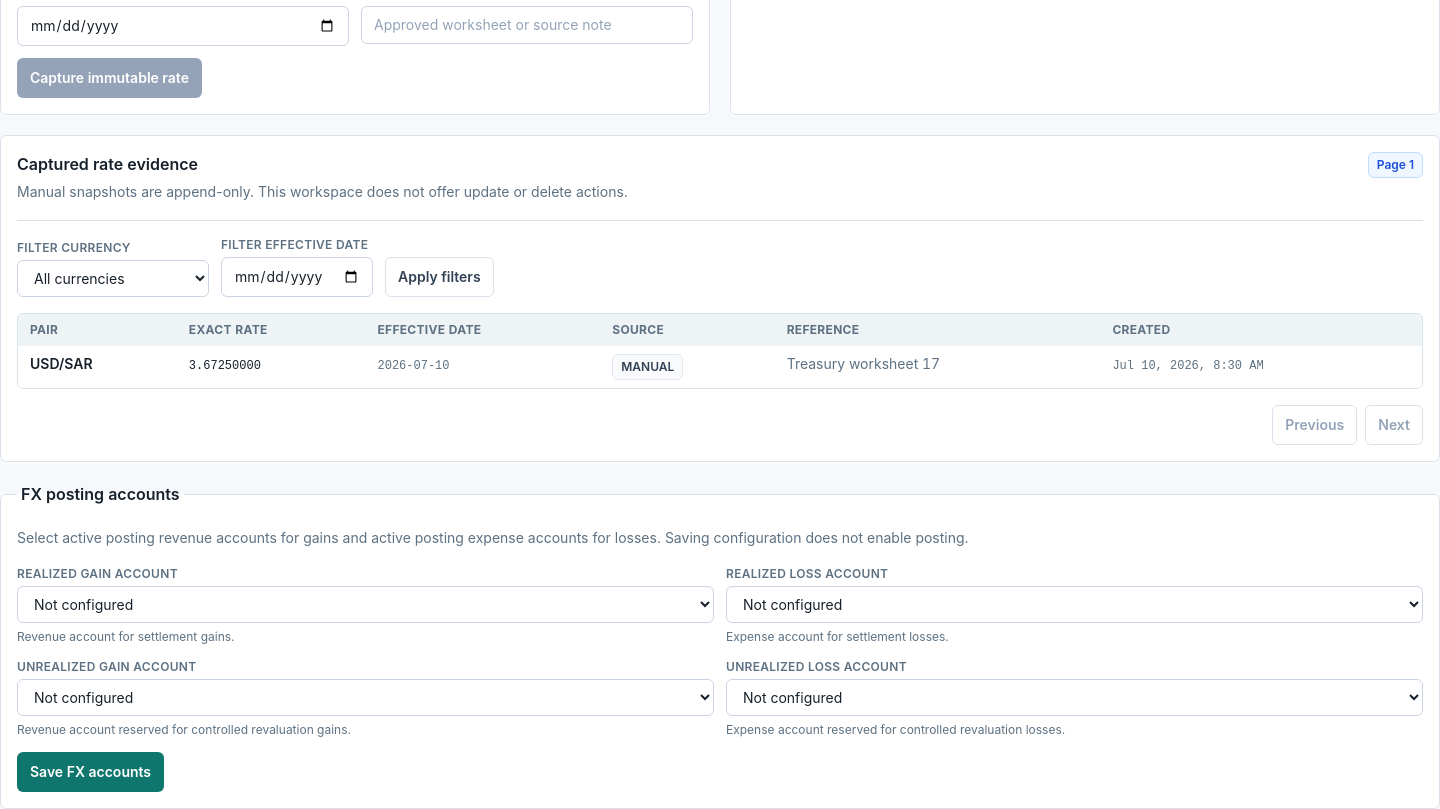
Test case: CurrenciesAndFxSettingsPage › saves four type-safe posting account selections via PUT
(page scrolled)
expect the text "USD/SAR" is shown: met, box x1=18 y1=346 x2=177 y2=388
Select "4100 - Realized FX gain" in the dropdown labelled "Realized gain account" at (366, 604), box x1=17 y1=586 x2=714 y2=623
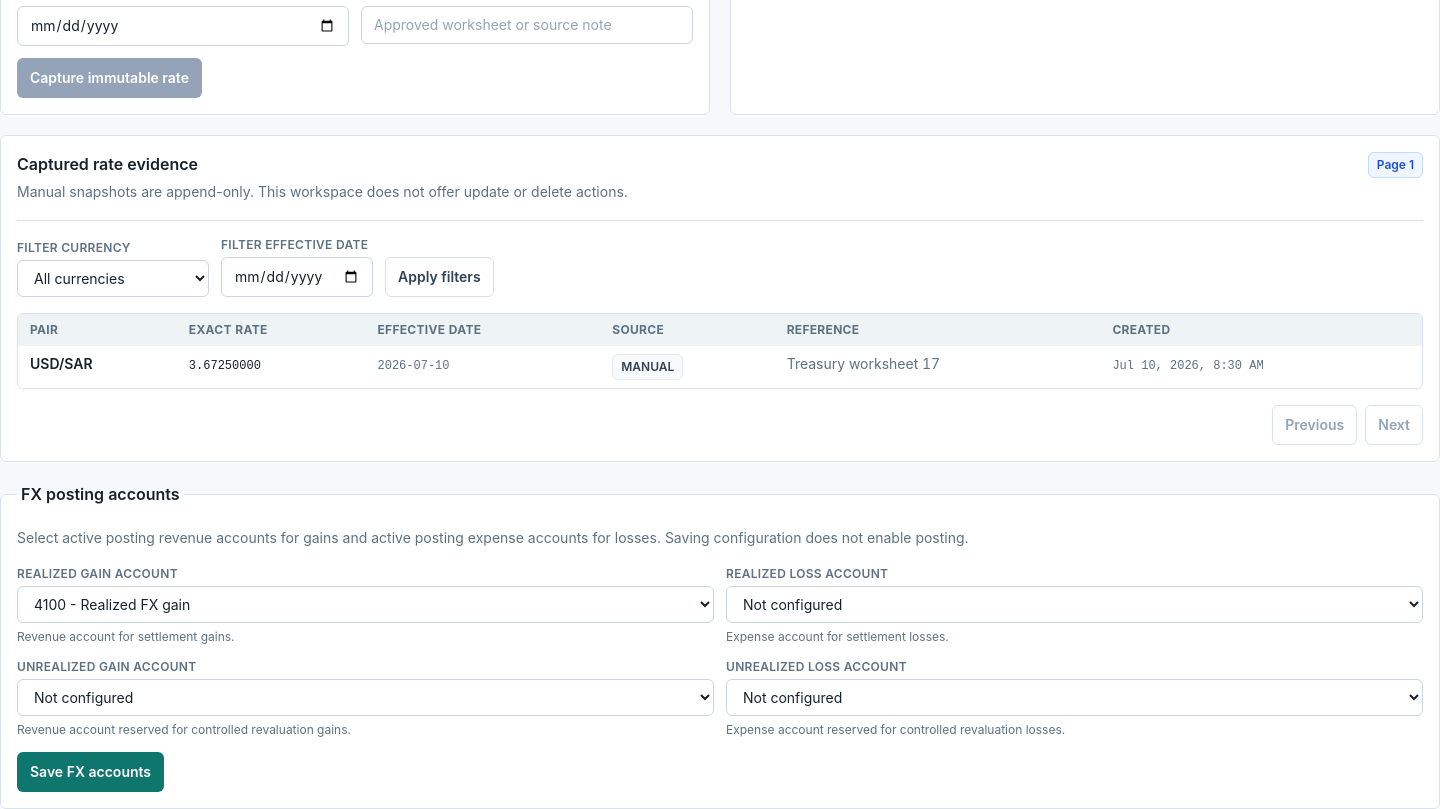
Select "5100 - Realized FX loss" in the dropdown labelled "Realized loss account" at (1074, 604), box x1=726 y1=586 x2=1423 y2=623
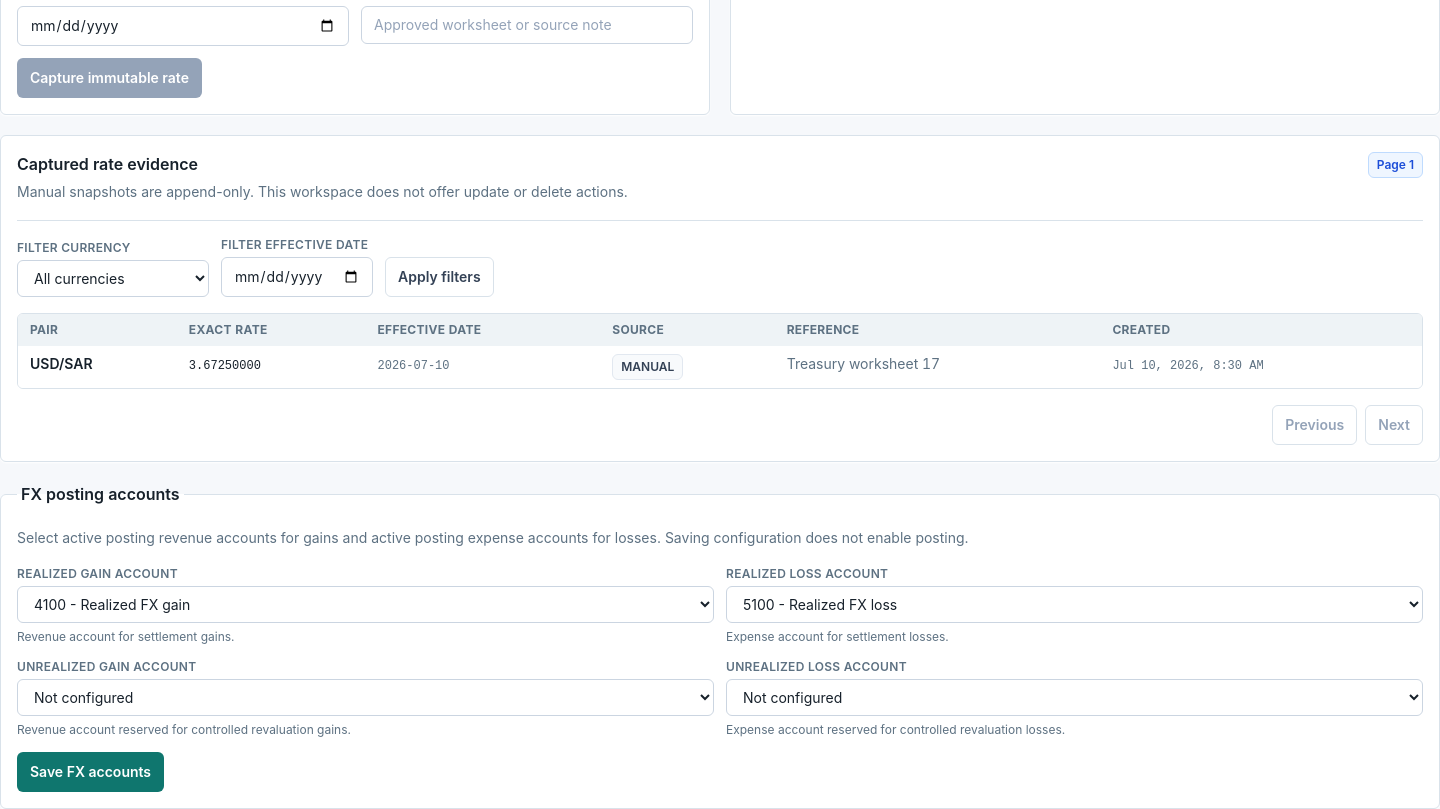
Select "4110 - Unrealized FX gain" in the dropdown labelled "Unrealized gain account" at (366, 698), box x1=17 y1=679 x2=714 y2=716
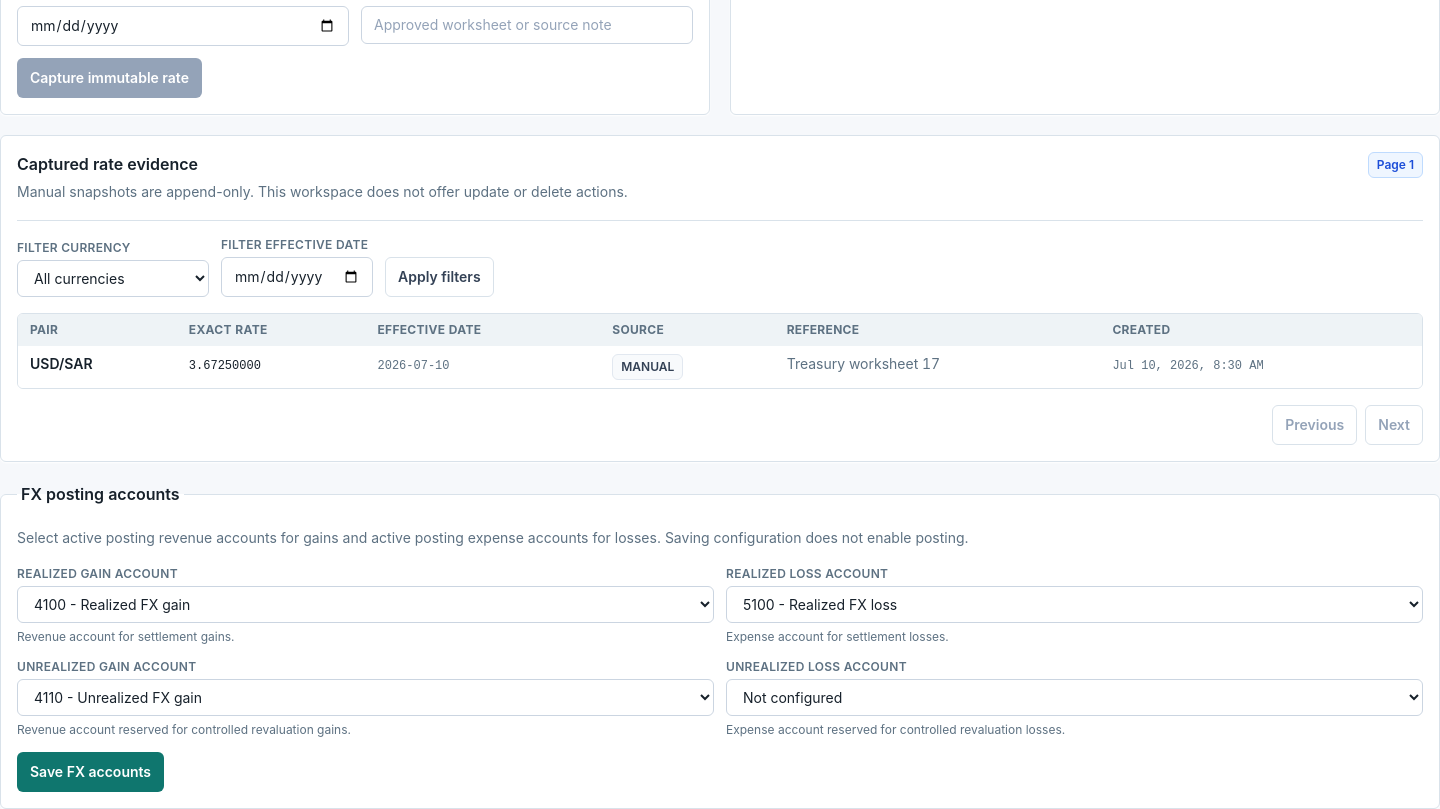
Select "5110 - Unrealized FX loss" in the dropdown labelled "Unrealized loss account" at (1074, 698), box x1=726 y1=679 x2=1423 y2=716
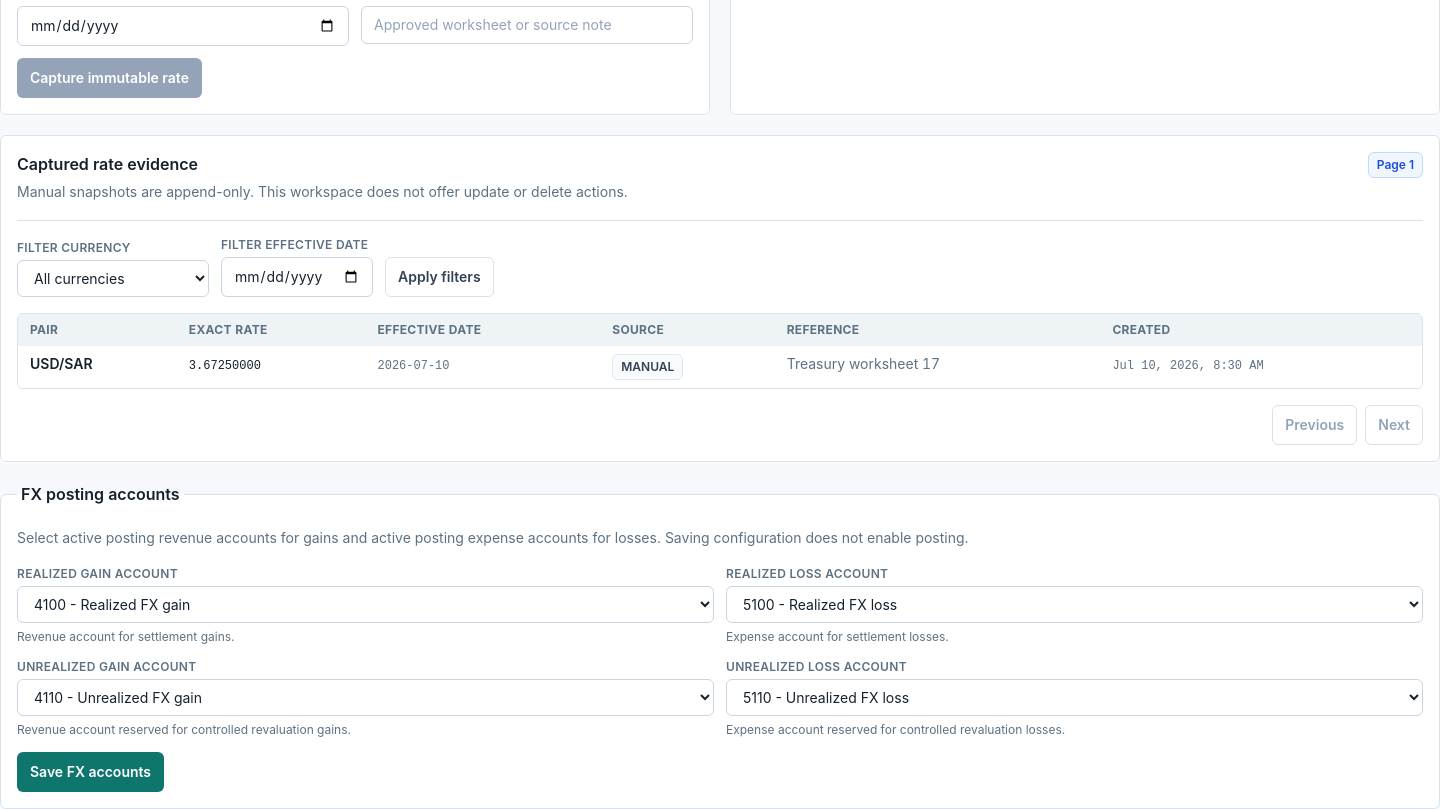
Click the button "Save FX accounts" at (90, 772), box x1=17 y1=752 x2=164 y2=792
(page scrolled)
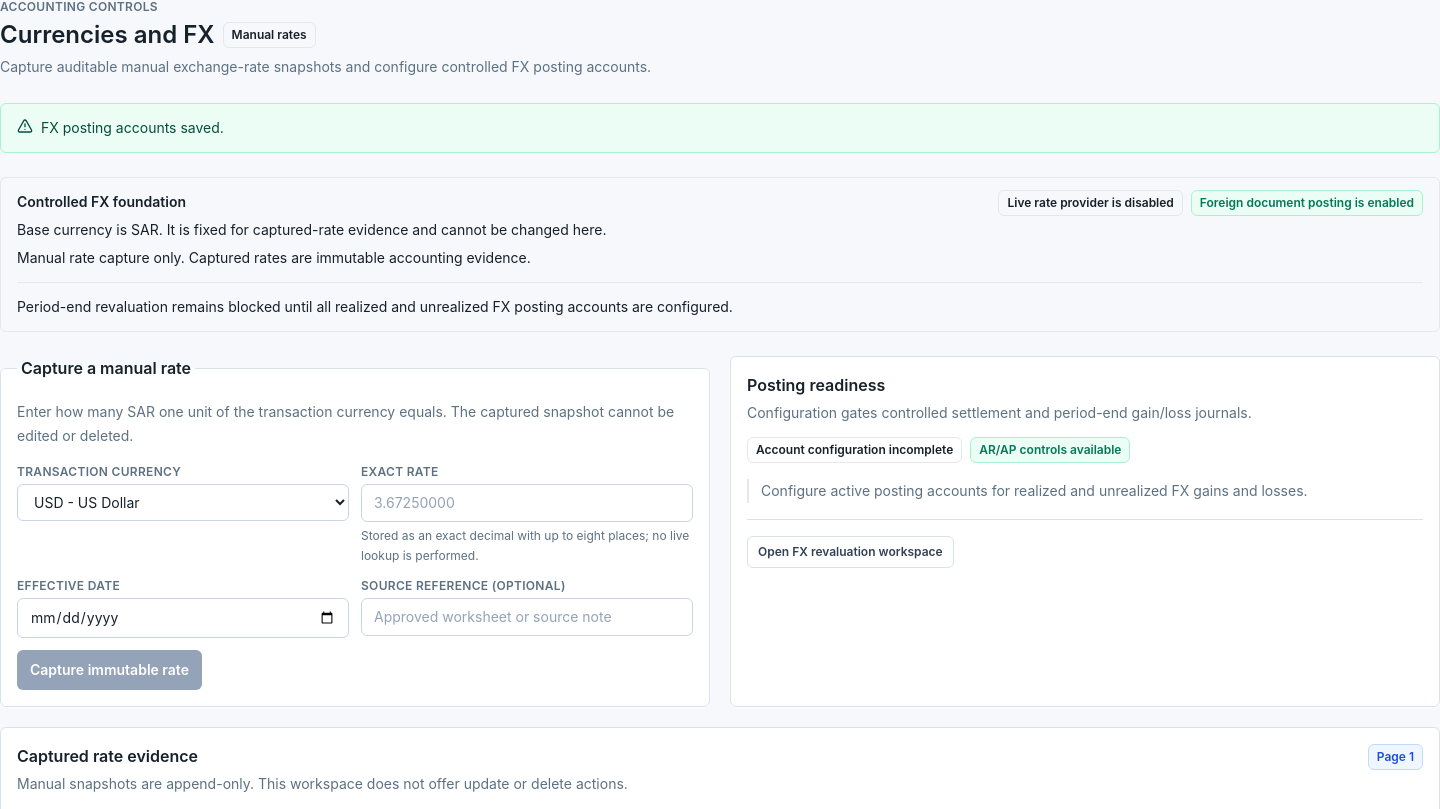
expect the text "FX posting accounts saved." is shown: met, box x1=41 y1=116 x2=224 y2=140
